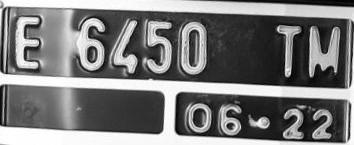0: (176, 20, 211, 78)
4: (107, 17, 141, 76)
5: (140, 18, 178, 77)
6: (72, 14, 111, 72)
E: (10, 10, 47, 74)
M: (305, 23, 344, 81)
T: (271, 22, 306, 79)
